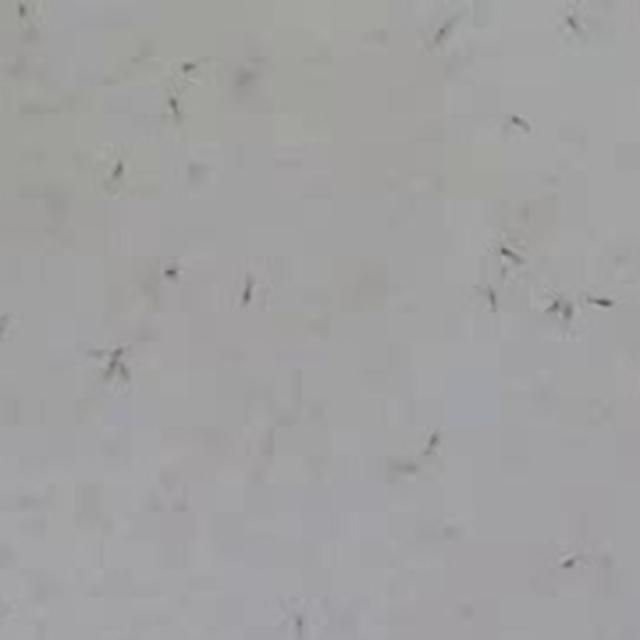shrimp-seed: (576, 265, 624, 329), (147, 84, 206, 135), (550, 8, 620, 50), (225, 265, 273, 325), (176, 48, 240, 90), (496, 104, 557, 146), (95, 148, 144, 196), (84, 342, 132, 390), (427, 5, 464, 57), (550, 296, 582, 345), (421, 418, 455, 463), (469, 281, 504, 320), (492, 238, 529, 270), (524, 296, 562, 326), (282, 607, 308, 634)
